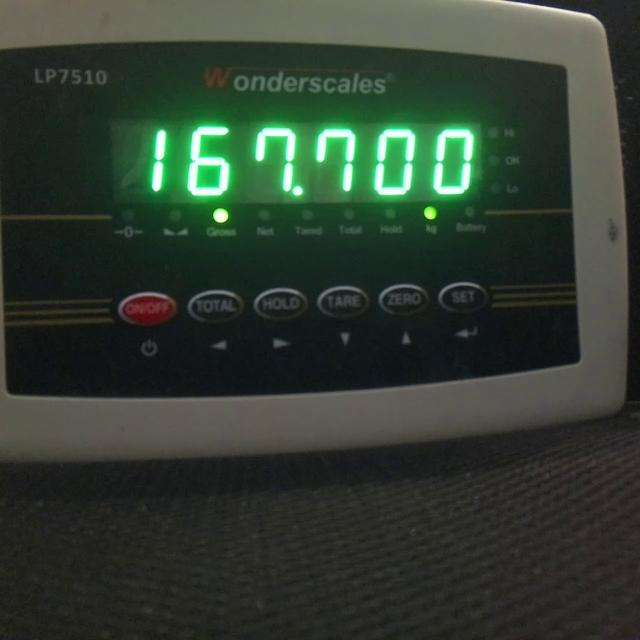.: (293, 186, 304, 198)
0: (375, 128, 417, 196), (433, 128, 474, 194)
1: (150, 129, 167, 192)
6: (186, 125, 231, 196)
7: (254, 126, 298, 194), (315, 128, 356, 193)
